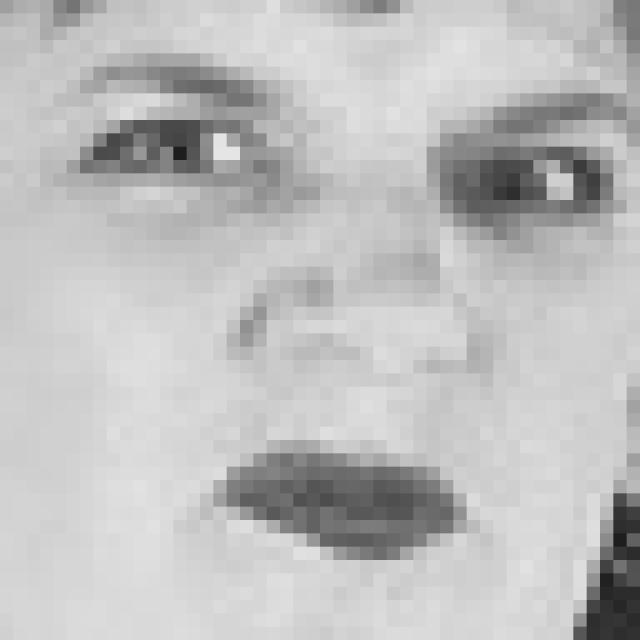disgust: (51, 51, 640, 579)
